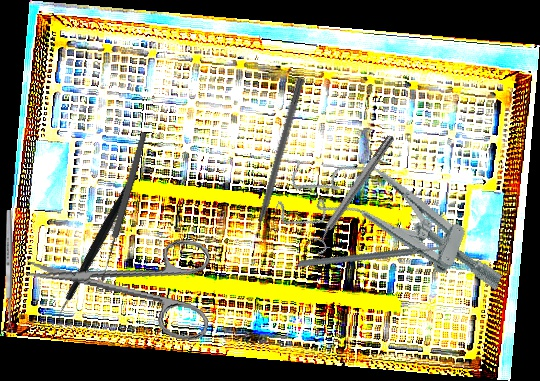Chopper: (15, 171, 181, 330), (297, 197, 451, 309)
Fixation Ring: (303, 130, 402, 258)
Iris Scissors: (18, 215, 221, 344)
Pusher: (246, 77, 306, 249)
Speculum: (271, 139, 522, 307)
Surgical Spoon: (97, 131, 149, 282), (5, 210, 13, 334)
